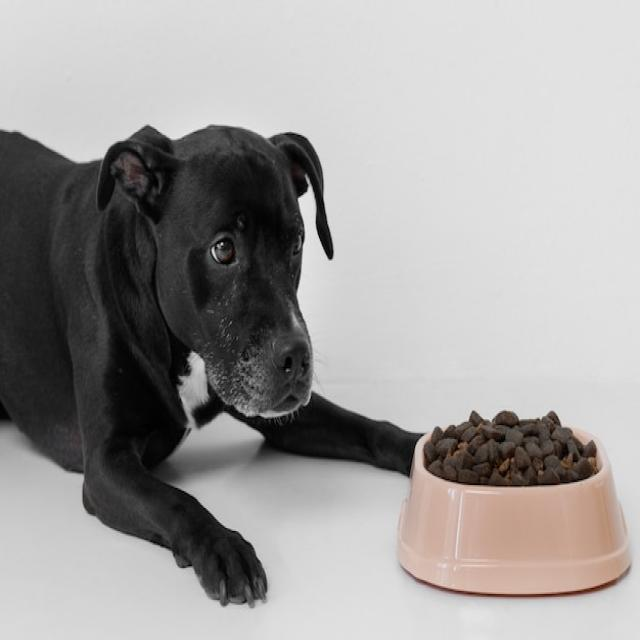Dog: (0, 125, 423, 606)
